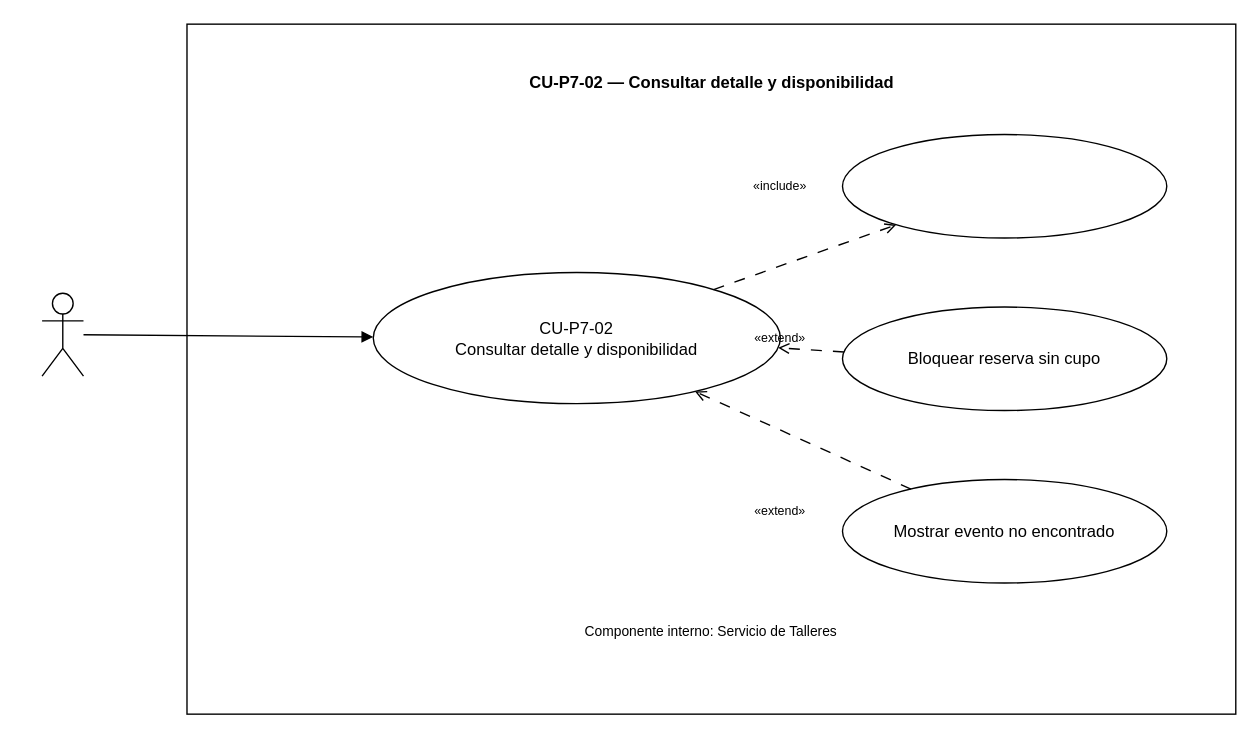
Image size: 1260x738. Some labels were removed from this diagram. Each missing label, with the box of its shape:
Consultar disponibilidad: (841, 133, 1167, 238)
Estudiante: (41, 292, 83, 376)
